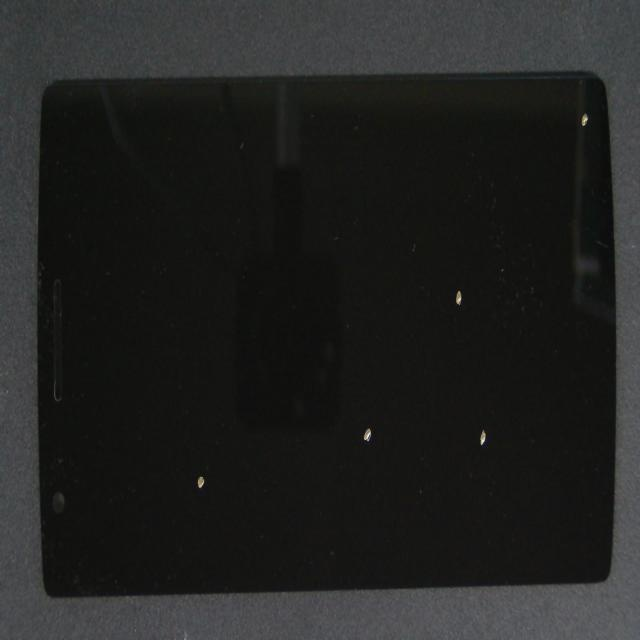stain: (256, 246, 640, 635), (213, 235, 578, 640), (258, 128, 640, 425), (135, 259, 325, 640), (308, 67, 640, 166)
